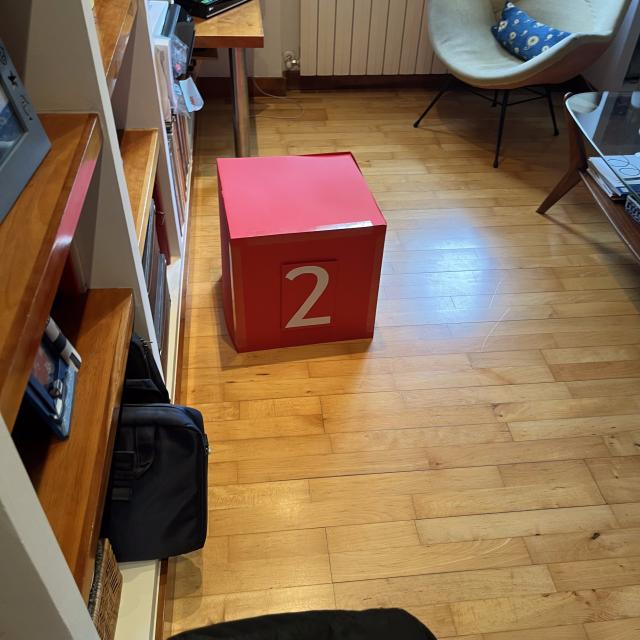box: (212, 148, 389, 354)
